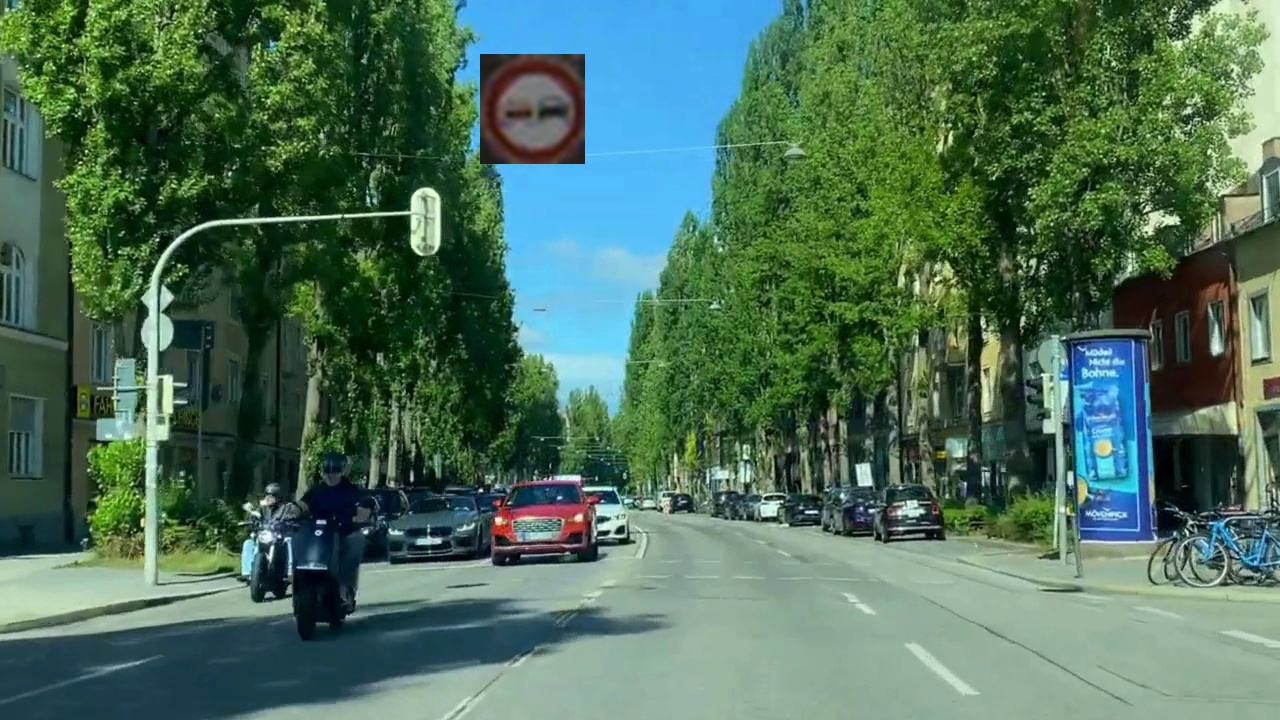No passing: (480, 54, 585, 164)
